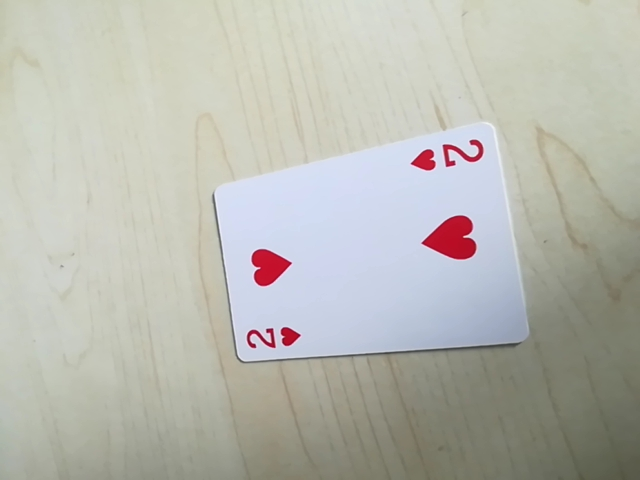hx 2: (408, 132, 493, 180), (238, 321, 306, 359)
